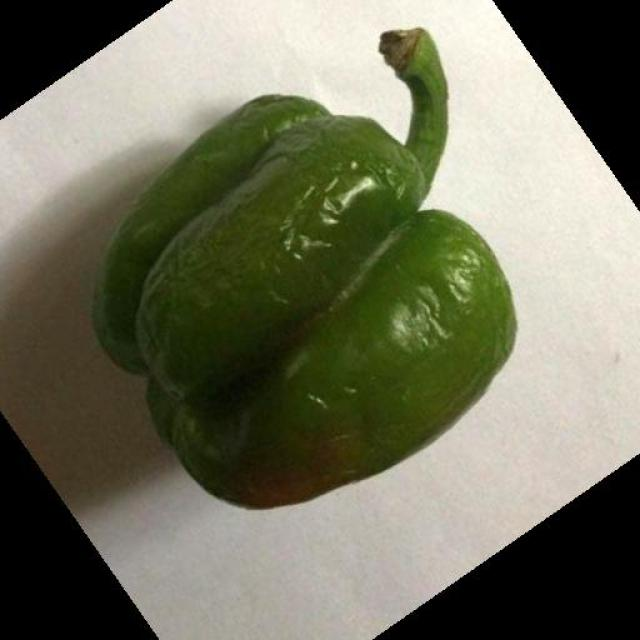Stale_Capsicum: (80, 78, 520, 475)
